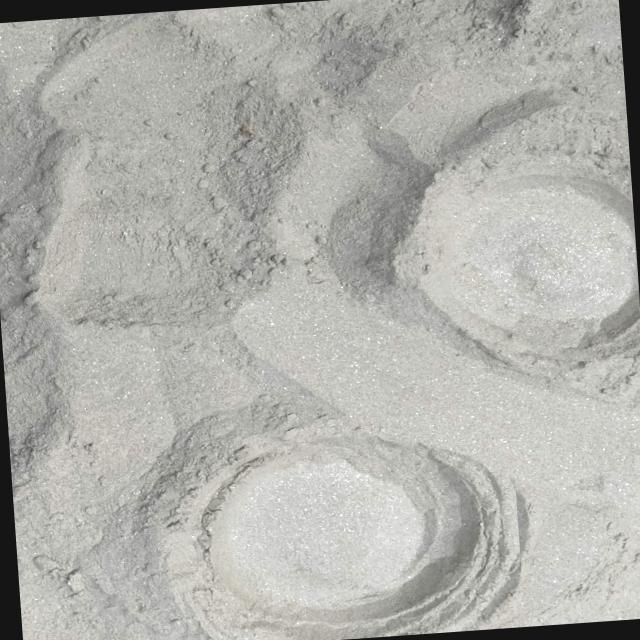C20: (174, 435, 519, 640), (400, 135, 638, 364)
